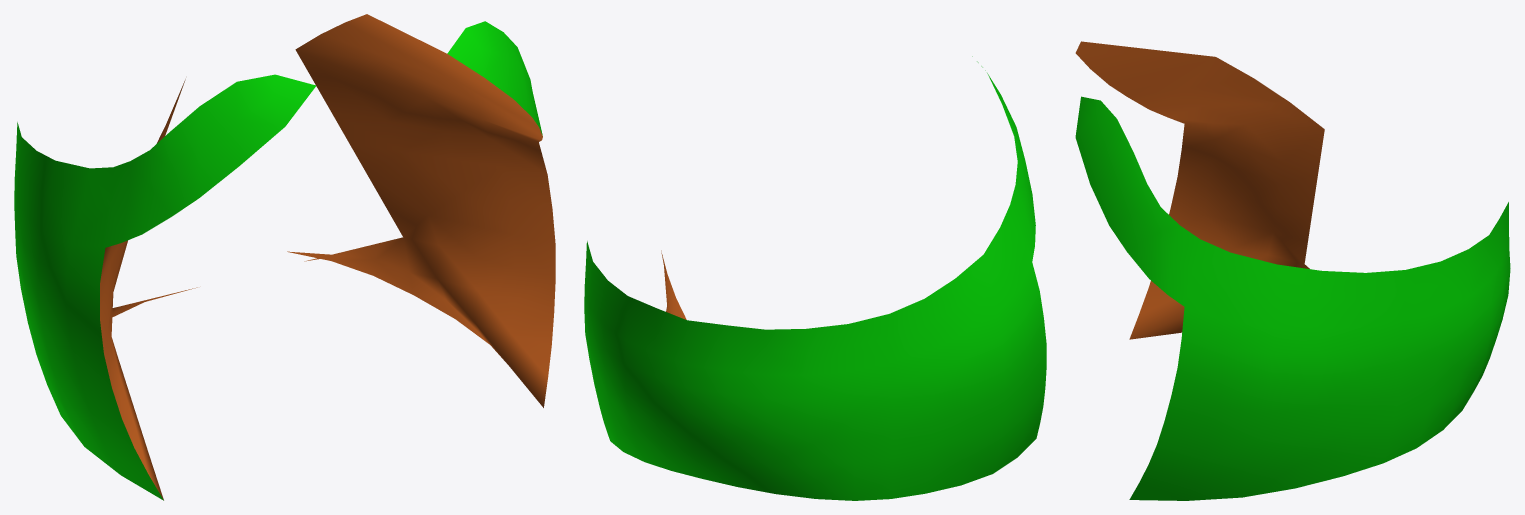
File: Hair2_108.glb
3 views of the same model, side by side, from view 1: azimuth 30°, elevation 25°; view 2: azimuth 150°, elevation 25°; view 3: azimuth 270°, elevation 25° (orthographic). The views are drawn at different scales.
Size of the model in its own units: 60.4 by 51.13 by 56.07.
